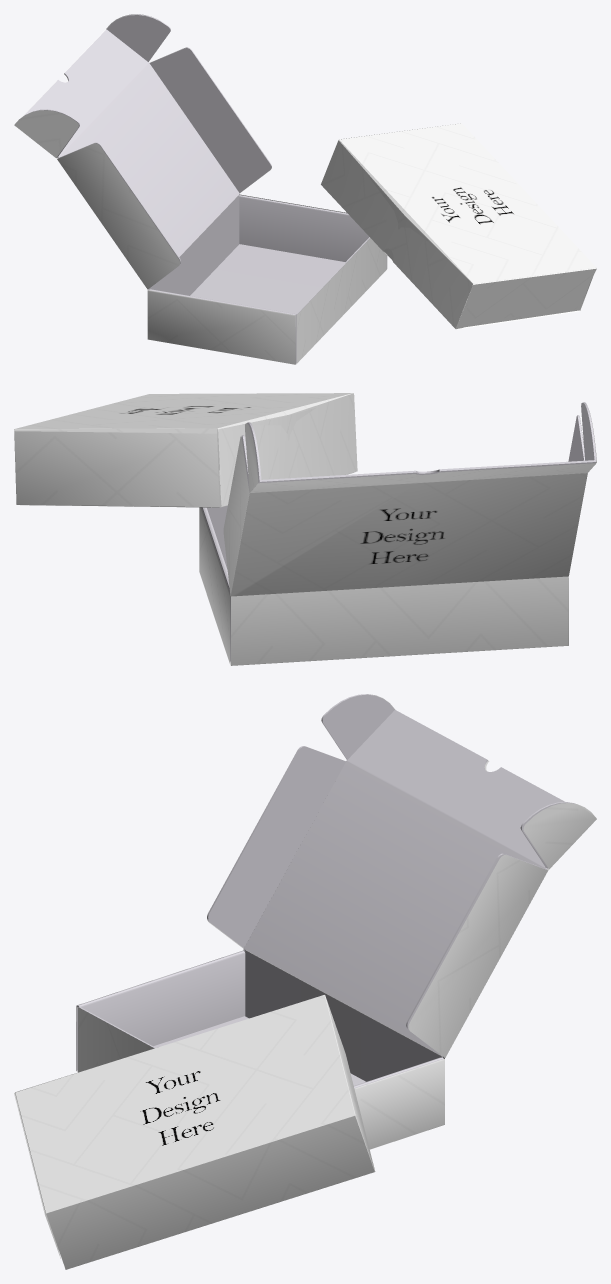
The model's file is Die Cut A-2.glb.
3 renders of one model, top to bottom at view 1: azimuth 30°, elevation 25°; view 2: azimuth 150°, elevation 25°; view 3: azimuth 270°, elevation 25°, orthographic. The views are drawn at different scales.
Parts seen in each view (by area): view 1: Box3.001, Box3-outer.001, Box3-outer; view 2: Box3-outer, Box3-outer.001, Box3.001; view 3: Box3.001, Box3-outer.001, Box3-outer.
Part boxes in pixels (box(x1,y1,x2,y2)): Box3.001: box(24, 14, 386, 363); Box3-outer.001: box(321, 123, 596, 329); Box3-outer: box(14, 14, 387, 364); Box3-outer: box(199, 411, 596, 665); Box3-outer.001: box(14, 393, 357, 507); Box3.001: box(201, 402, 596, 661); Box3.001: box(76, 694, 575, 1088); Box3-outer.001: box(14, 995, 375, 1269); Box3-outer: box(76, 694, 596, 1149).
Bounding box in the file's own units: 7.41 × 3.52 × 6.21.
2 materials, 1 textured.
